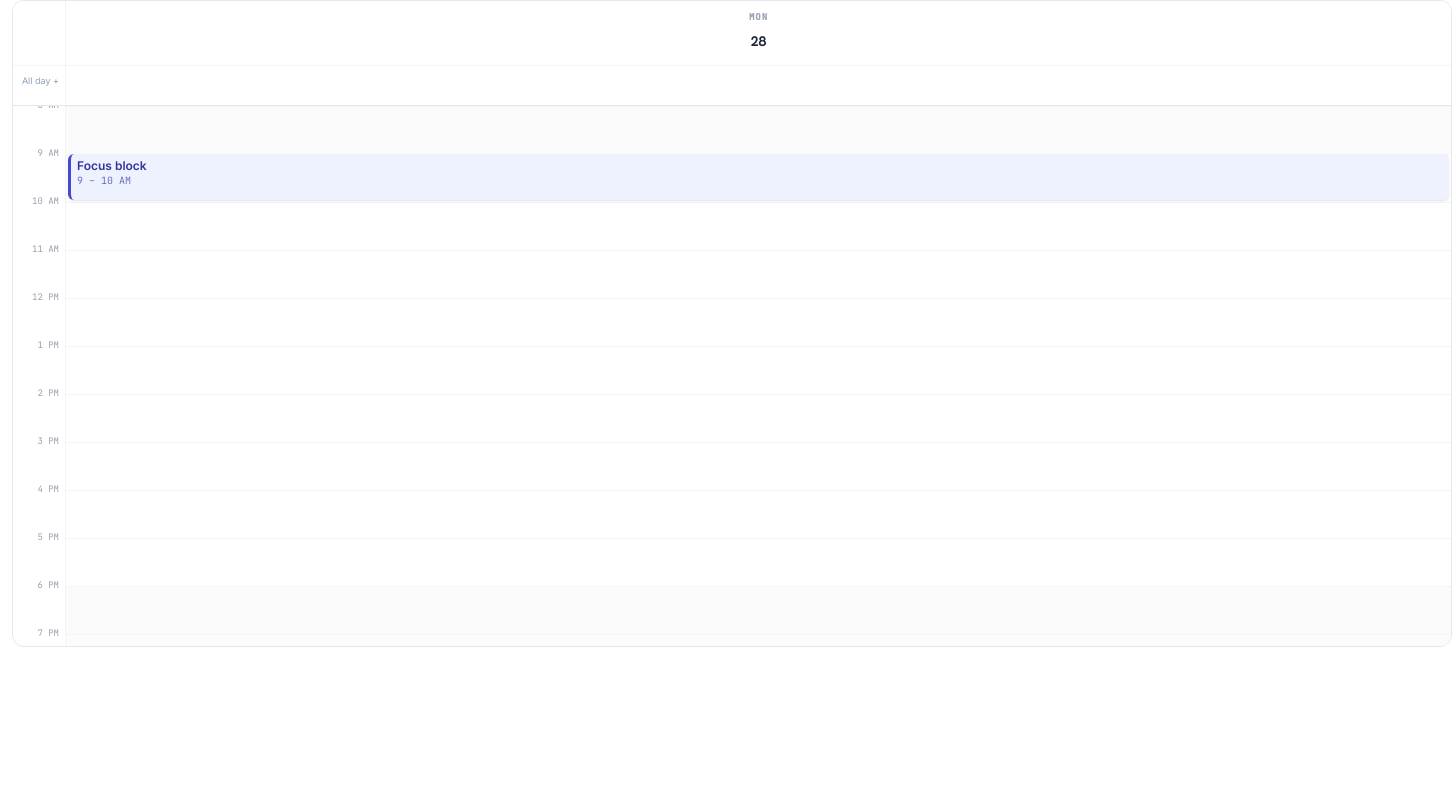
Scenario: retains the resized placement during a slow save and restores it on failure
This screenshot has width=1452, height=810.
(page scrolled)
Press the mouse on the element titled "Drag to change how long this block runs" at (760, 194), box [71,190,1449,200]
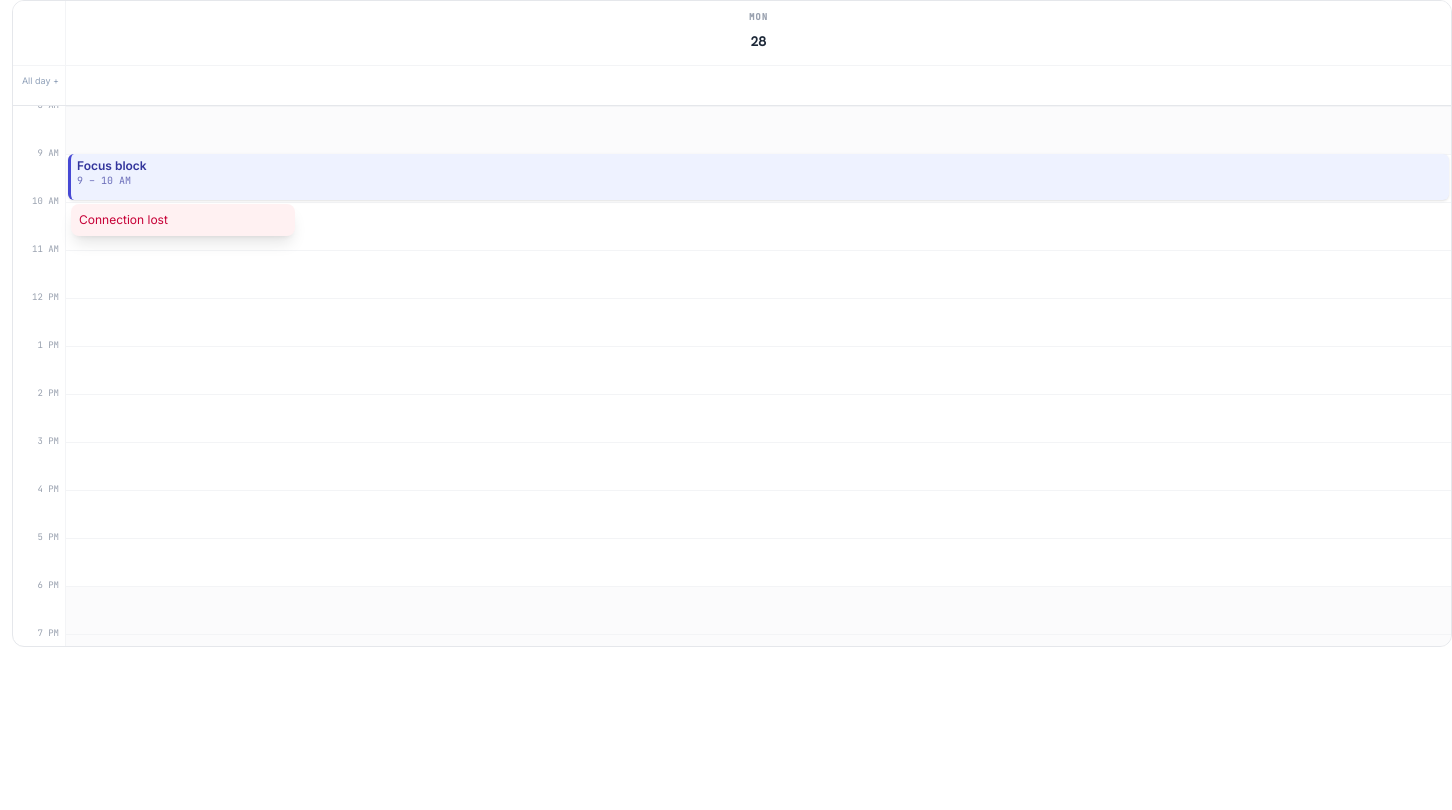
Expected: the button with aria-label "Focus block, 9 – 10 AM" is shown, [68,154,1449,200]
Expected: the message reads "Connection lost", [79,212,168,226]
